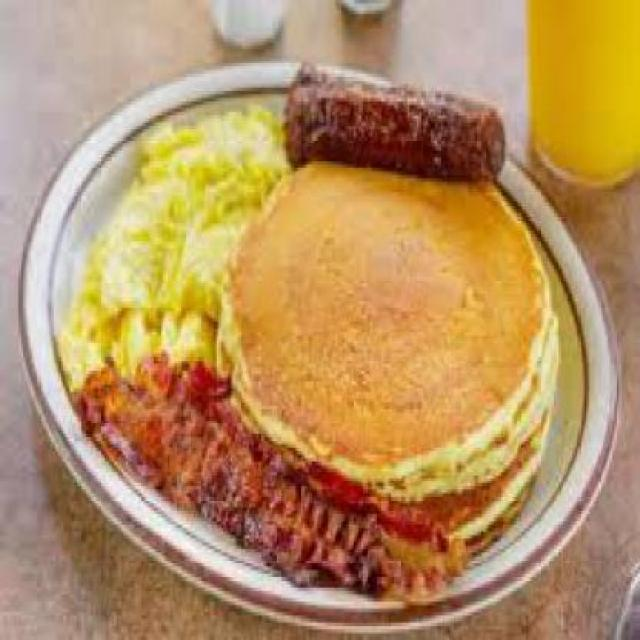hot dog: (280, 56, 506, 182)
omelette: (55, 98, 277, 364)
pancakes: (220, 157, 554, 538)
